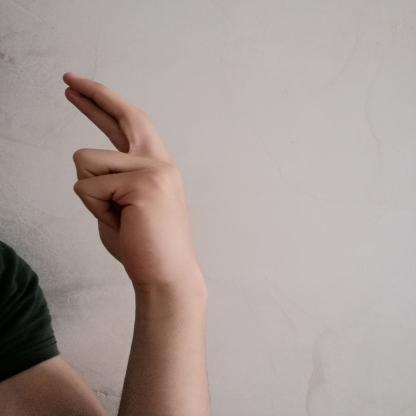ZAY: (52, 65, 216, 295)
